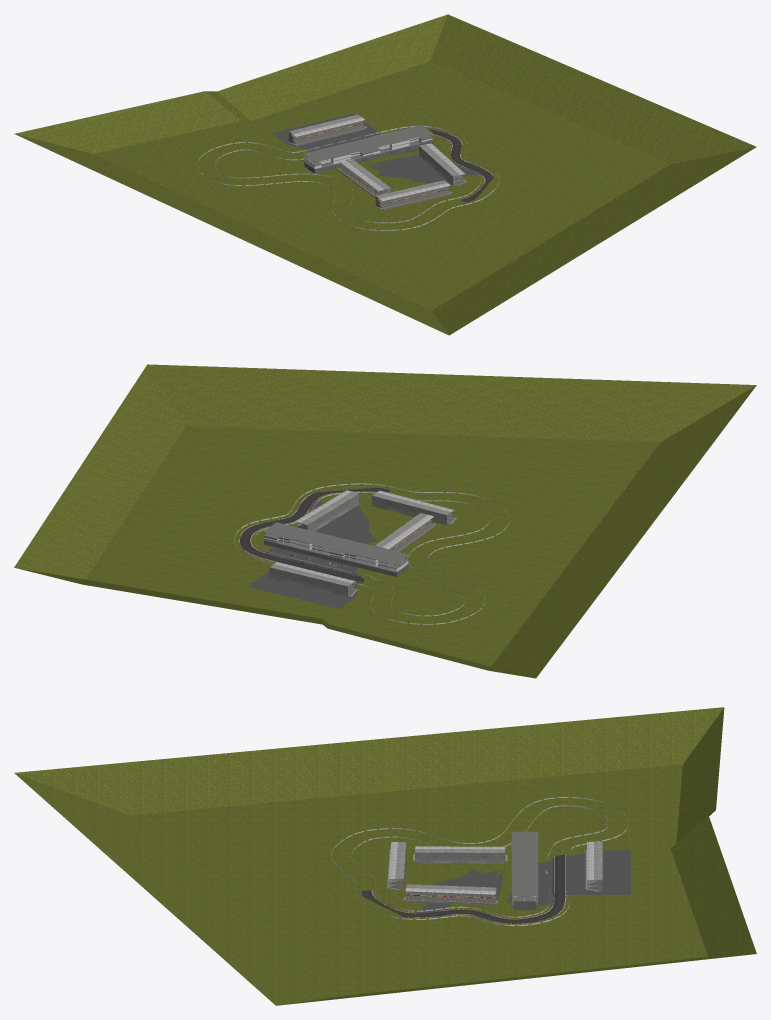
Rendered from circuit fix.fbx.
3 renders of one model, top to bottom at view 1: azimuth 30°, elevation 25°; view 2: azimuth 150°, elevation 25°; view 3: azimuth 270°, elevation 25°, orthographic. The views are drawn at different scales.
Parts seen in each view (by area): view 1: jalur_balap.003_Plane.011, mesh_116_95.nr_mesh_116_95.nr.002, jalur_balap.003_Plane.001, mesh_282_165.nr_mesh_282_165.nr.001_mesh_282_165.nr_mesh_282, mesh_282_165.nr_mesh_282_165.nr.004_mesh_282_165.nr_mesh_282, Plane.031_Plane.039, mesh_282_165.nr_mesh_282_165.nr.003_mesh_282_165.nr_mesh_282, mesh_282_165.nr_mesh_282_165.nr.002_mesh_282_165.nr_mesh_282, mesh_116_95.nr_mesh_116_95.nr.001, jalur_balap_Plane.002, Cube.008_Cube.005, Cube.006_Cube.010; view 2: jalur_balap.003_Plane.011, mesh_116_95.nr_mesh_116_95.nr.001, jalur_balap.003_Plane.001, jalur_balap_Plane.002, mesh_282_165.nr_mesh_282_165.nr.001_mesh_282_165.nr_mesh_282, Plane.031_Plane.039, mesh_282_165.nr_mesh_282_165.nr.004_mesh_282_165.nr_mesh_282, mesh_282_165.nr_mesh_282_165.nr.003_mesh_282_165.nr_mesh_282, mesh_282_165.nr_mesh_282_165.nr.002_mesh_282_165.nr_mesh_282, mesh_116_95.nr_mesh_116_95.nr.002, Cube.008_Cube.005, Cube.006_Cube.010; view 3: jalur_balap.003_Plane.011, Plane.031_Plane.039, jalur_balap.003_Plane.001, mesh_282_165.nr_mesh_282_165.nr.003_mesh_282_165.nr_mesh_282, jalur_balap_Plane.002, mesh_282_165.nr_mesh_282_165.nr.002_mesh_282_165.nr_mesh_282, mesh_116_95.nr_mesh_116_95.nr.001, mesh_116_95.nr_mesh_116_95.nr.002, mesh_282_165.nr_mesh_282_165.nr.001_mesh_282_165.nr_mesh_282, Cube.008_Cube.005, mesh_282_165.nr_mesh_282_165.nr.004_mesh_282_165.nr_mesh_282, Cube.006_Cube.010.
Part boxes in pixels (x1,y1,x2,y2): jalur_balap.003_Plane.011: (14,14,756,335); mesh_116_95.nr_mesh_116_95.nr.002: (309,129,432,173); jalur_balap.003_Plane.001: (366,148,481,193); mesh_282_165.nr_mesh_282_165.nr.001_mesh_282_165.nr_mesh_282: (288,114,367,146); mesh_282_165.nr_mesh_282_165.nr.004_mesh_282_165.nr_mesh_282: (375,180,452,210); Plane.031_Plane.039: (272,113,380,151); mesh_282_165.nr_mesh_282_165.nr.003_mesh_282_165.nr_mesh_282: (419,143,467,185); mesh_282_165.nr_mesh_282_165.nr.002_mesh_282_165.nr_mesh_282: (338,158,390,197); mesh_116_95.nr_mesh_116_95.nr.001: (303,125,426,169); jalur_balap_Plane.002: (427,129,493,202); Cube.008_Cube.005: (197,126,499,230); Cube.006_Cube.010: (215,134,481,223); jalur_balap.003_Plane.011: (14,364,756,678); mesh_116_95.nr_mesh_116_95.nr.001: (263,527,402,576); jalur_balap.003_Plane.001: (264,499,377,575); jalur_balap_Plane.002: (240,487,389,582); mesh_282_165.nr_mesh_282_165.nr.001_mesh_282_165.nr_mesh_282: (269,562,358,597); Plane.031_Plane.039: (248,571,361,608); mesh_282_165.nr_mesh_282_165.nr.004_mesh_282_165.nr_mesh_282: (372,490,457,525); mesh_282_165.nr_mesh_282_165.nr.003_mesh_282_165.nr_mesh_282: (295,490,359,531); mesh_282_165.nr_mesh_282_165.nr.002_mesh_282_165.nr_mesh_282: (375,513,436,551); mesh_116_95.nr_mesh_116_95.nr.002: (270,522,408,572); Cube.008_Cube.005: (234,483,510,624); Cube.006_Cube.010: (254,491,490,616); jalur_balap.003_Plane.011: (14,707,756,1005); Plane.031_Plane.039: (565,850,630,894); jalur_balap.003_Plane.001: (405,860,554,913); mesh_282_165.nr_mesh_282_165.nr.003_mesh_282_165.nr_mesh_282: (403,884,498,905); jalur_balap_Plane.002: (361,854,565,923); mesh_282_165.nr_mesh_282_165.nr.002_mesh_282_165.nr_mesh_282: (413,846,507,863); mesh_116_95.nr_mesh_116_95.nr.001: (524,831,538,909); mesh_116_95.nr_mesh_116_95.nr.002: (511,831,525,909); mesh_282_165.nr_mesh_282_165.nr.001_mesh_282_165.nr_mesh_282: (585,841,602,891); Cube.008_Cube.005: (331,797,627,926); mesh_282_165.nr_mesh_282_165.nr.004_mesh_282_165.nr_mesh_282: (387,842,406,890); Cube.006_Cube.010: (351,805,608,917).
Size of the model in its own units: 57336 by 2302 by 60271.
Materials: 8 (6 with a texture image).
